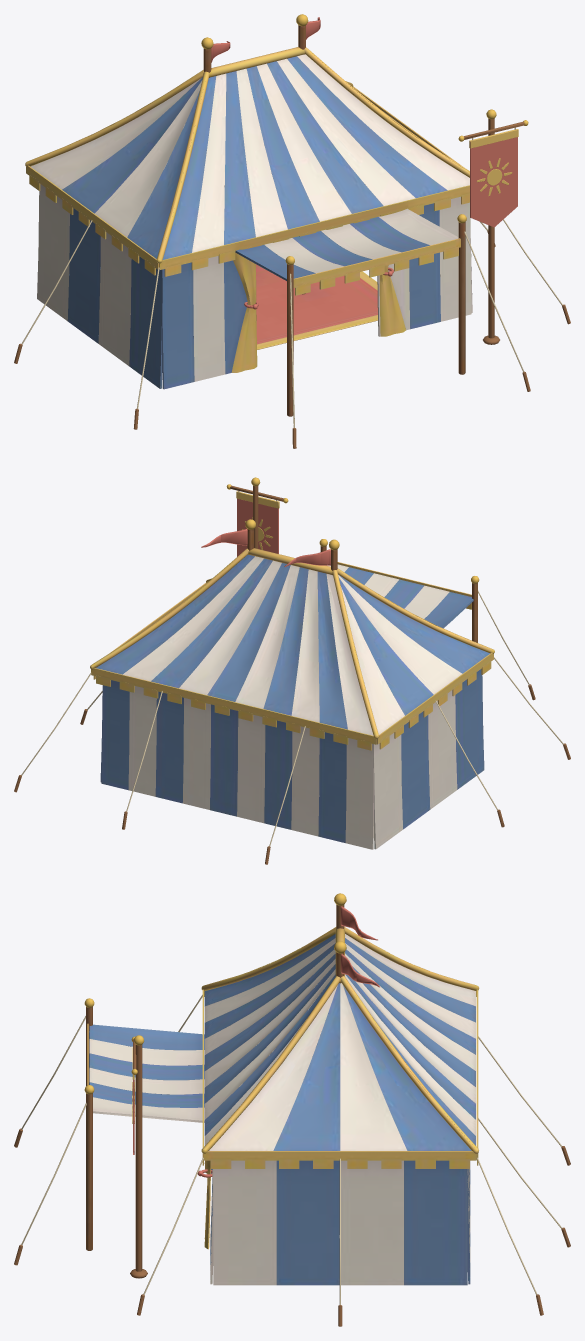
The model's file is tienda_real.glb.
3 renders of one model, top to bottom at view 1: azimuth 30°, elevation 25°; view 2: azimuth 150°, elevation 25°; view 3: azimuth 270°, elevation 25°, orthographic. The views are drawn at different scales.
Visible parts, largest first — view 1: royal-tent_banner; view 2: royal-tent_banner; view 3: royal-tent_banner.
Part boxes in pixels (x1=…): royal-tent_banner: x1=14, y1=14, x2=570, y2=448; royal-tent_banner: x1=14, y1=477, x2=570, y2=864; royal-tent_banner: x1=14, y1=893, x2=570, y2=1326.
Size of the model in its own units: 8.13 by 4.51 by 7.88.
Materials: 9 (1 with a texture image).
